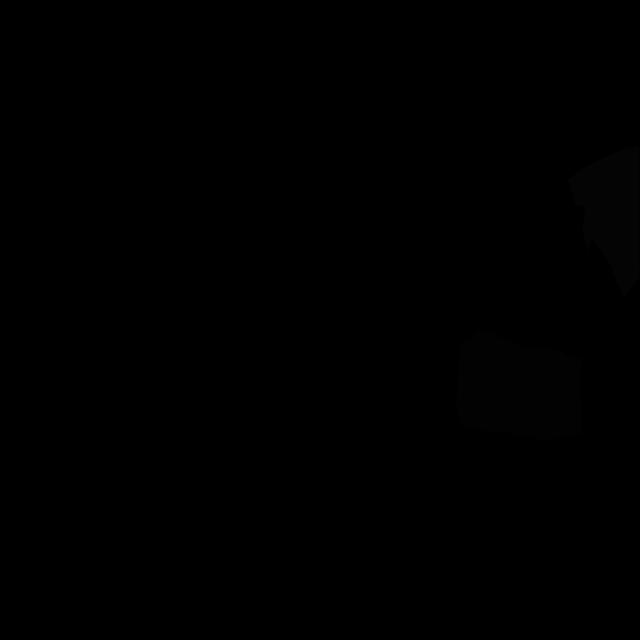cardboard: (456, 330, 582, 439)
soft_plastic: (568, 145, 640, 297)
